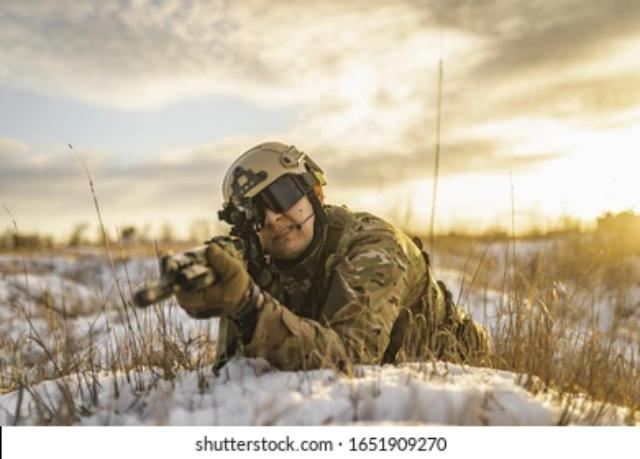other: (182, 145, 484, 360)
